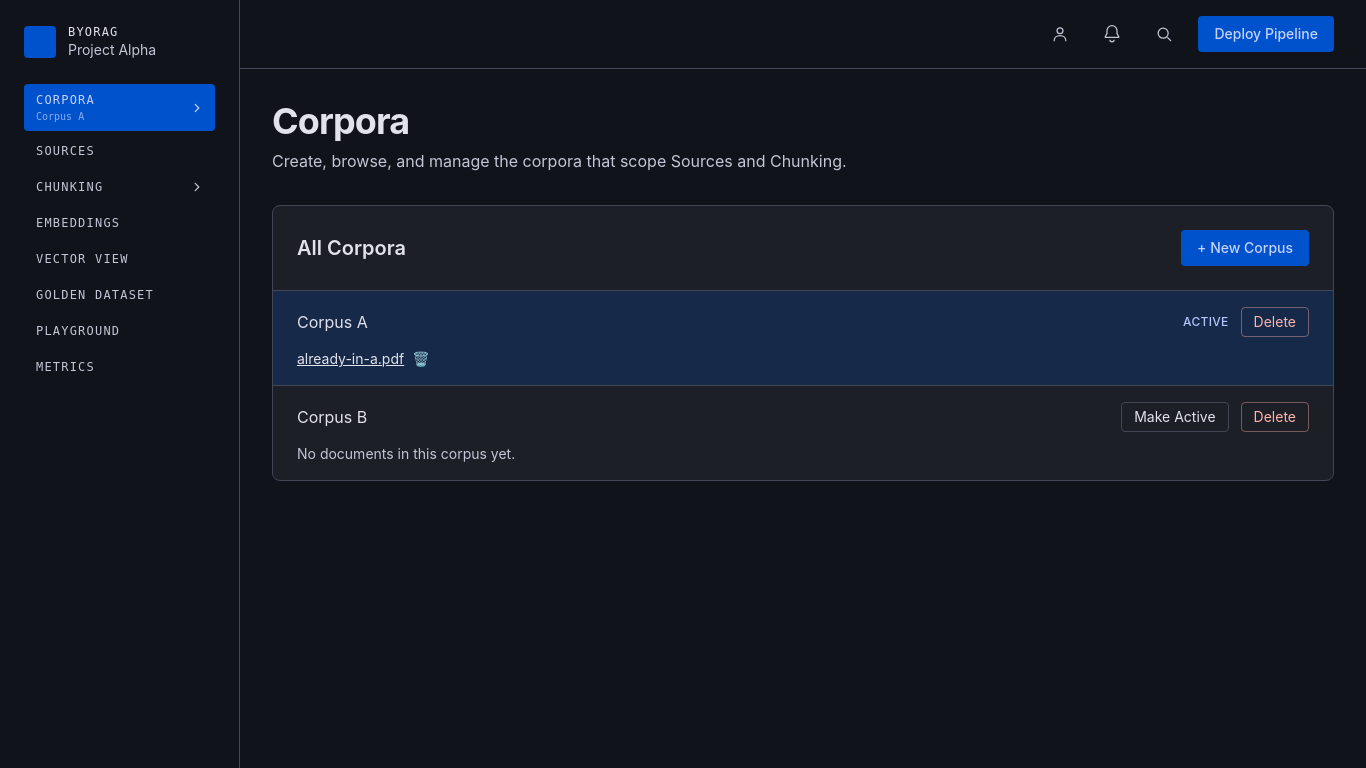
CorporaScreen document management (033-ui-ux-polish US1) › canceling the modal leaves the document untouched
Expected: the link "already-in-a.pdf" is shown, [297,349,404,369]
Click the button named "delete already-in-a.pdf" at (421, 359), box [412,352,430,366]
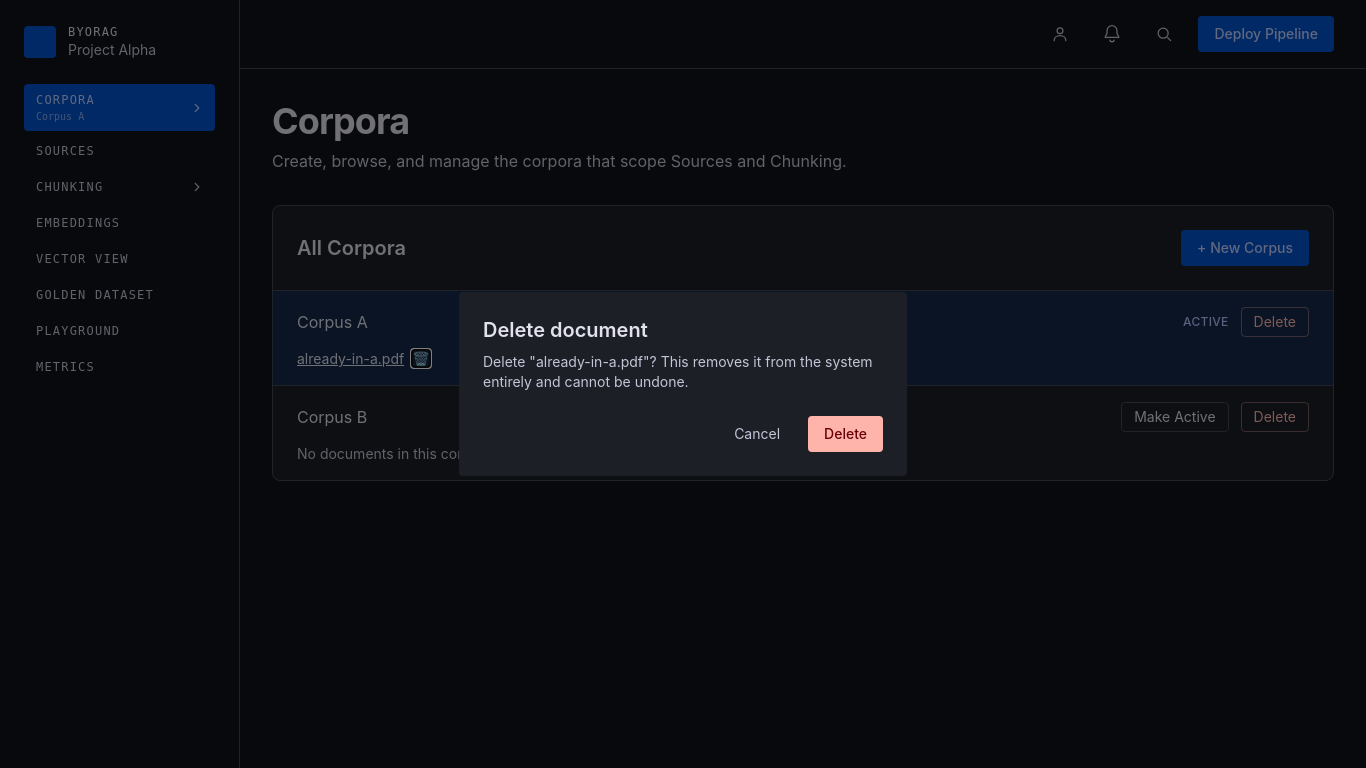
Click the button "Cancel" at (757, 434), box [718,416,796,452]
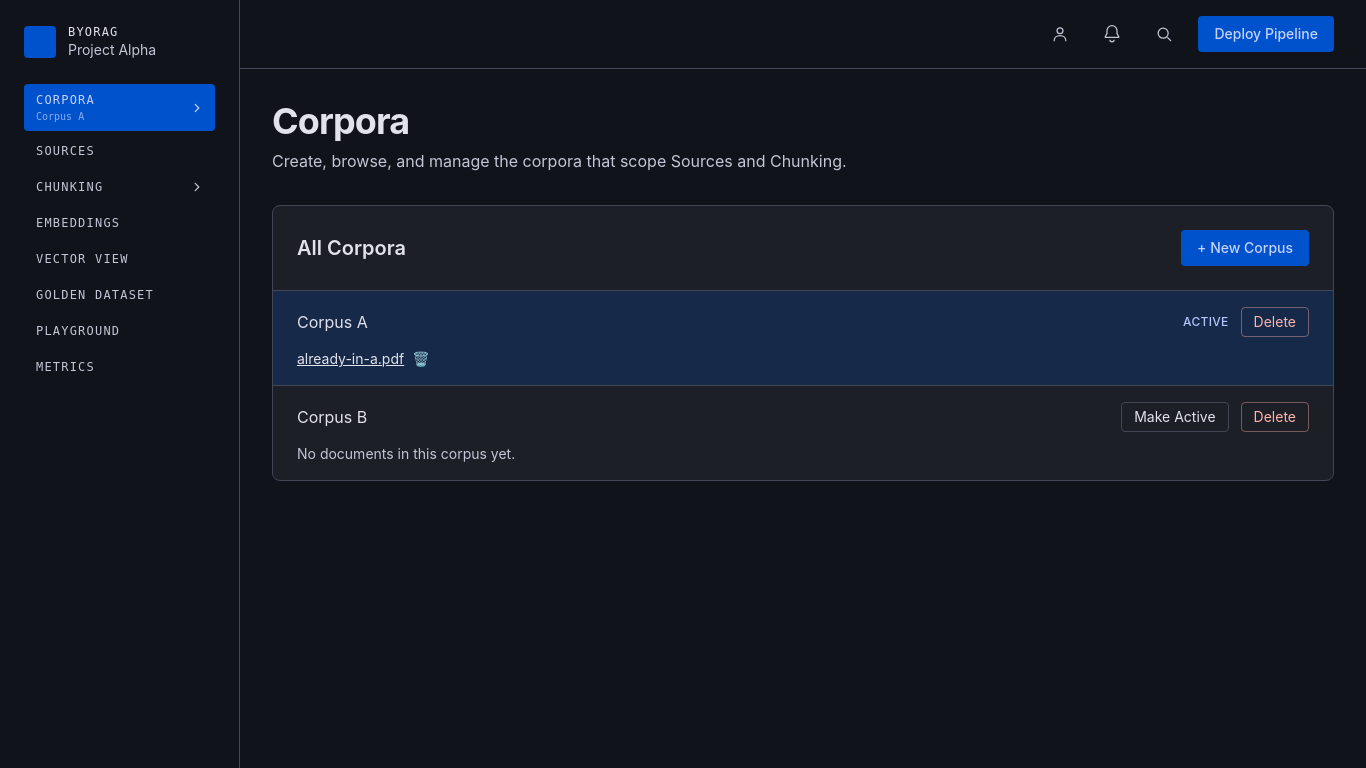
Expected: the link "already-in-a.pdf" is shown, [297,349,404,369]
Now the dialog is gone
